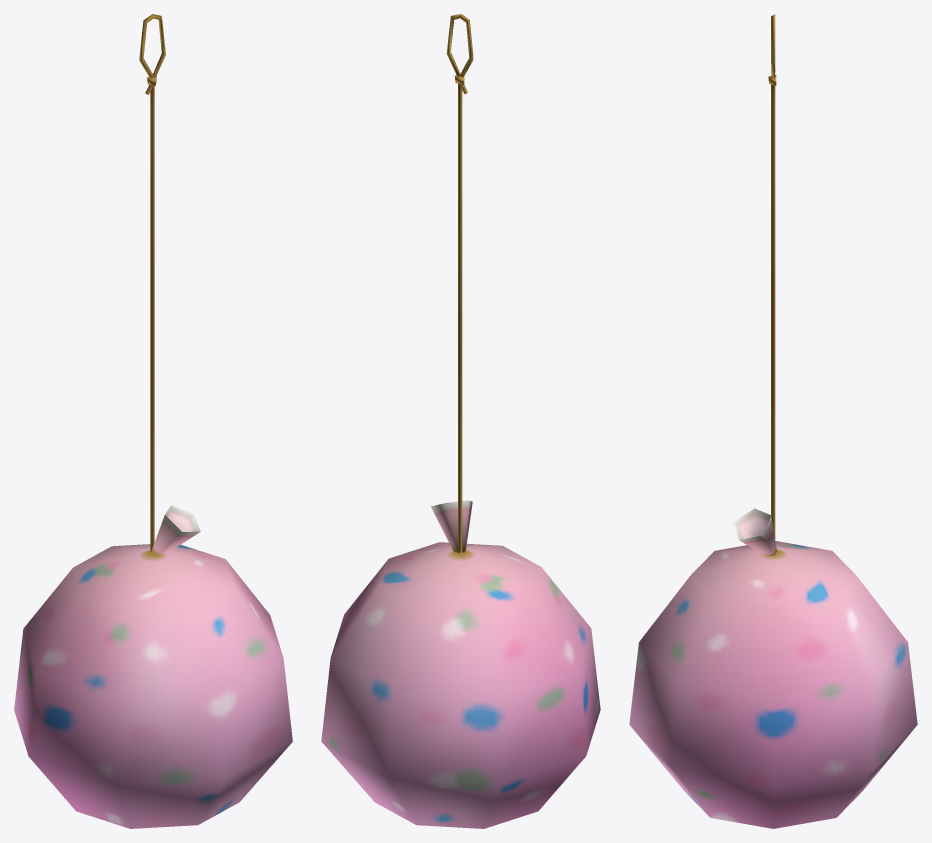
Rendered from jsf_WaterBalloon_19_a.fbx.
3 renders of one model, left to right at view 1: azimuth 30°, elevation 25°; view 2: azimuth 150°, elevation 25°; view 3: azimuth 270°, elevation 25°, orthographic.
Parts seen in each view (by area): view 1: jsf_WaterBalloon_19_a; view 2: jsf_WaterBalloon_19_a; view 3: jsf_WaterBalloon_19_a.
Boxes of the visible parts, left/top/right/bottom form: jsf_WaterBalloon_19_a: left=14, top=14, right=292, bottom=828; jsf_WaterBalloon_19_a: left=321, top=14, right=600, bottom=828; jsf_WaterBalloon_19_a: left=629, top=14, right=917, bottom=828.
Bounding box in the file's own units: 10.92 × 33.54 × 10.92.
